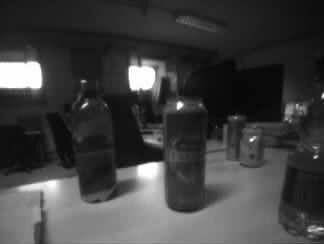Bottle: (69, 80, 119, 202), (281, 122, 324, 237)
Tin can: (164, 99, 205, 211), (242, 128, 263, 167), (228, 114, 244, 158)
